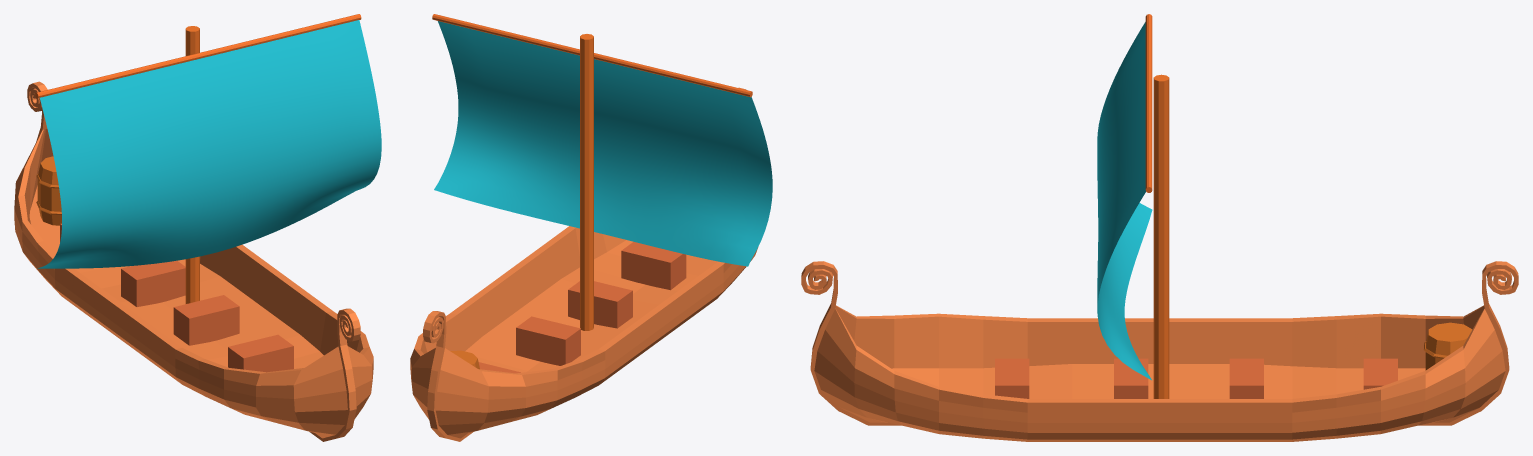
Rendered from Sailboat.fbx.
3 views of the same model, side by side, from view 1: azimuth 30°, elevation 25°; view 2: azimuth 150°, elevation 25°; view 3: azimuth 270°, elevation 25° (orthographic). The views are drawn at different scales.
Visible parts, largest first — view 1: plane sail, hull, 2nd_mate_seat, 1st_mate_seat, foremast, 3rd_mate_seat, barrel, mast; view 2: plane sail, hull, mast, 1st_mate_seat, 3rd_mate_seat, foremast, 2nd_mate_seat; view 3: hull, plane sail, mast, 1st_mate_seat, foremast, barrel, 3rd_mate_seat, 2nd_mate_seat, Cap_seat.
Boxes of the visible parts, left/top/right/bottom form: plane sail: left=37, top=20, right=381, bottom=268; hull: left=14, top=81, right=373, bottom=441; 2nd_mate_seat: left=173, top=295, right=239, bottom=345; 1st_mate_seat: left=121, top=260, right=185, bottom=306; foremast: left=35, top=14, right=361, bottom=98; 3rd_mate_seat: left=228, top=334, right=293, bottom=372; barrel: left=36, top=156, right=61, bottom=225; mast: left=185, top=26, right=199, bottom=303; plane sail: left=434, top=21, right=772, bottom=266; hull: left=410, top=87, right=758, bottom=441; mast: left=580, top=34, right=593, bottom=330; 1st_mate_seat: left=516, top=316, right=580, bottom=365; 3rd_mate_seat: left=621, top=241, right=686, bottom=290; foremast: left=432, top=14, right=752, bottom=97; 2nd_mate_seat: left=568, top=281, right=632, bottom=328; hull: left=801, top=261, right=1518, bottom=441; plane sail: left=1097, top=22, right=1152, bottom=380; mast: left=1153, top=74, right=1169, bottom=398; 1st_mate_seat: left=1229, top=358, right=1263, bottom=398; foremast: left=1145, top=14, right=1152, bottom=192; barrel: left=1424, top=322, right=1472, bottom=370; 3rd_mate_seat: left=995, top=358, right=1029, bottom=398; 2nd_mate_seat: left=1114, top=358, right=1148, bottom=398; Cap_seat: left=1363, top=358, right=1397, bottom=389.
Size of the model in its own units: 624 by 581 by 1094.
